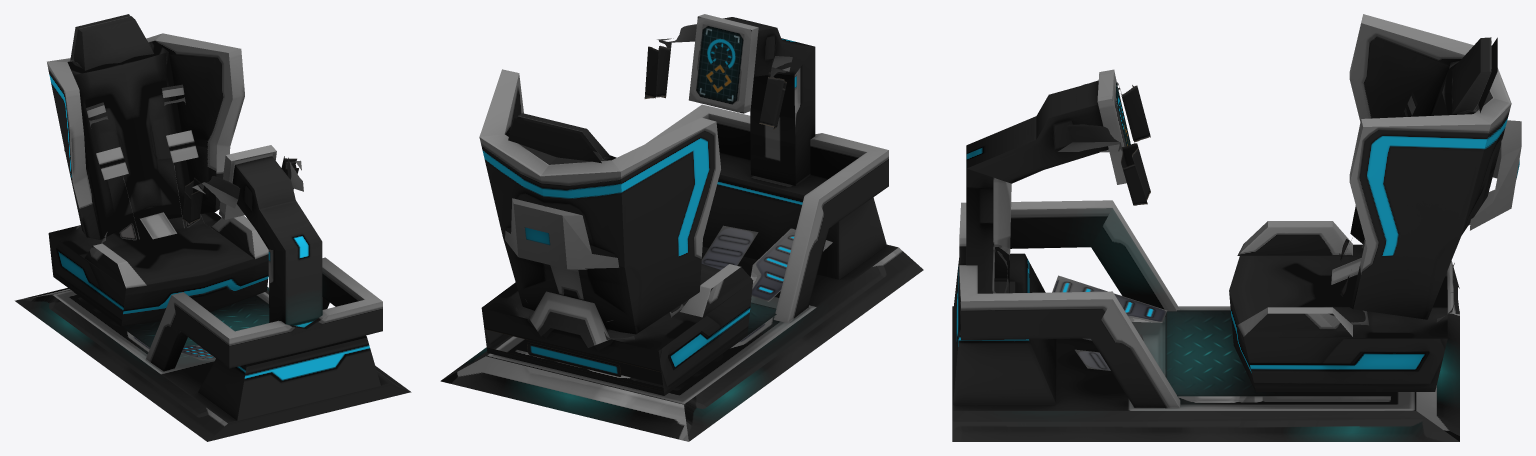
Rendered from obj_interactive_driverseat_05_lod1.fbx.
3 renders of one model, left to right at view 1: azimuth 30°, elevation 25°; view 2: azimuth 150°, elevation 25°; view 3: azimuth 270°, elevation 25°, orthographic. The views are drawn at different scales.
Parts seen in each view (by area): view 1: obj_interactive_driverseat_09; view 2: obj_interactive_driverseat_09; view 3: obj_interactive_driverseat_09.
Boxes of the visible parts, box(x1,y1,x2,y2) form: obj_interactive_driverseat_09: box(14, 14, 411, 441); obj_interactive_driverseat_09: box(440, 14, 923, 441); obj_interactive_driverseat_09: box(952, 14, 1521, 441).
Size of the model in its own units: 3.5 by 4.01 by 6.41.
Materials: 1 (1 with a texture image).
